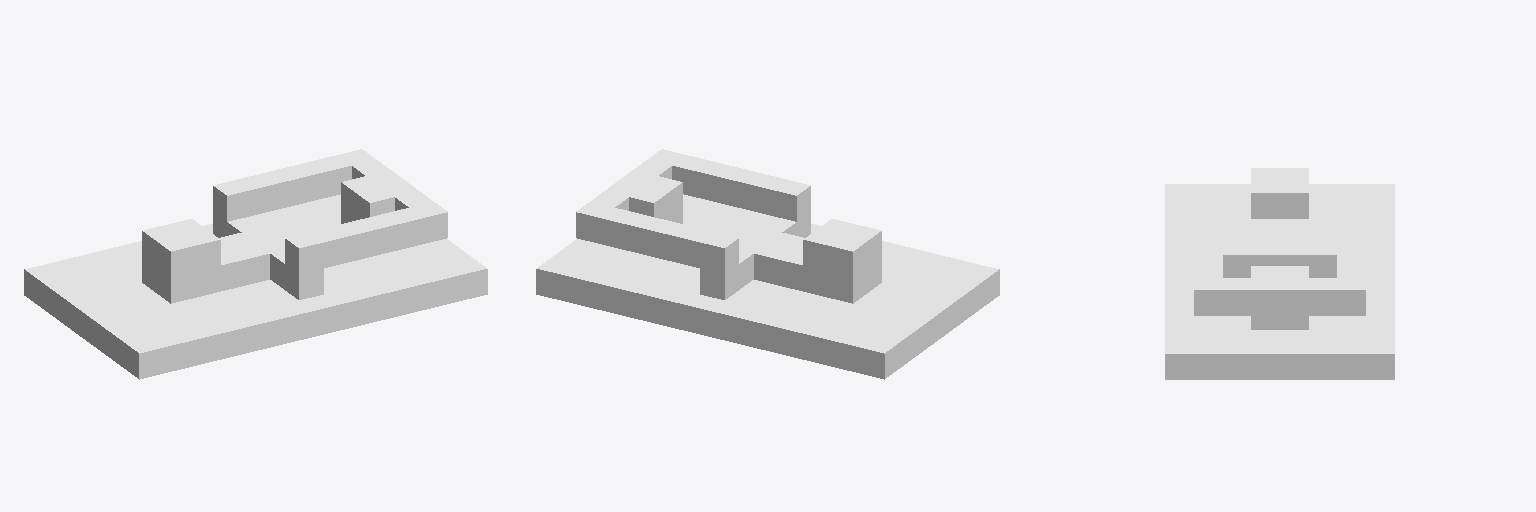
The model's file is mousetrap-full.obj.
3 views of the same model, side by side, from view 1: azimuth 30°, elevation 25°; view 2: azimuth 150°, elevation 25°; view 3: azimuth 270°, elevation 25° (orthographic).
Parts seen in each view (by area): view 1: object 1; view 2: object 1; view 3: object 1.
Part boxes in pixels (left/top/right/bottom): object 1: left=24, top=149, right=487, bottom=379; object 1: left=536, top=149, right=999, bottom=379; object 1: left=1165, top=168, right=1394, bottom=379.
Bounding box in the file's own units: 1.4 × 0.3 × 0.8.